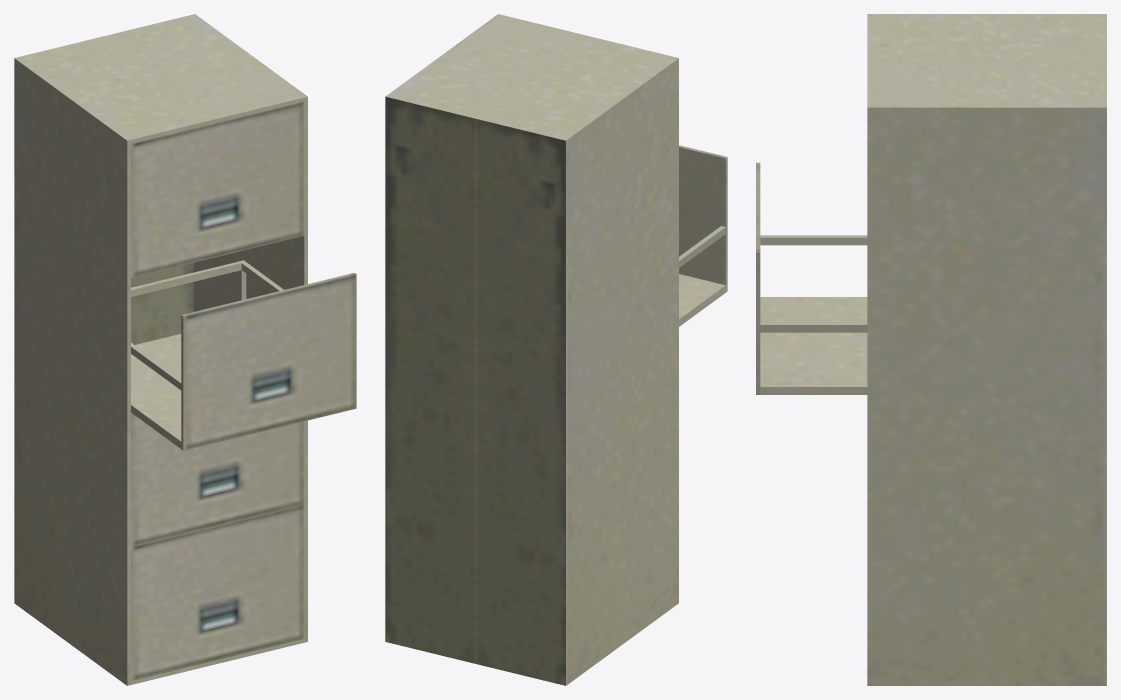
The model's file is file_cabinet_small_with_shelfs.obj.
The picture shows the model from 3 angles, left to right: view 1: azimuth 30°, elevation 25°; view 2: azimuth 150°, elevation 25°; view 3: azimuth 270°, elevation 25°; orthographic projection. The views are drawn at different scales.
Parts seen in each view (by area): view 1: file_cabinet_small_with_shelfs; view 2: file_cabinet_small_with_shelfs; view 3: file_cabinet_small_with_shelfs.
Boxes of the visible parts, left/top/right/bottom form: file_cabinet_small_with_shelfs: left=14, top=14, right=356, bottom=685; file_cabinet_small_with_shelfs: left=385, top=14, right=727, bottom=685; file_cabinet_small_with_shelfs: left=756, top=14, right=1106, bottom=685.
Bounding box in the file's own units: 0.4847 × 1.4 × 0.7683.
